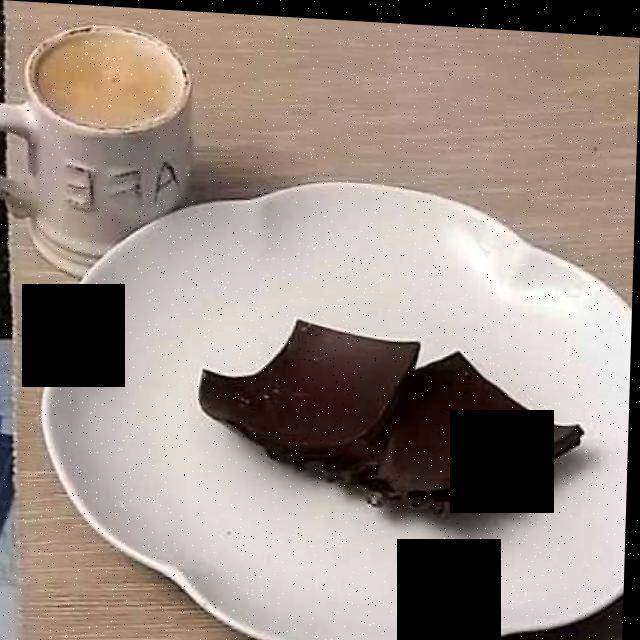chocolate: (207, 320, 579, 504)
drink: (36, 30, 174, 127)
